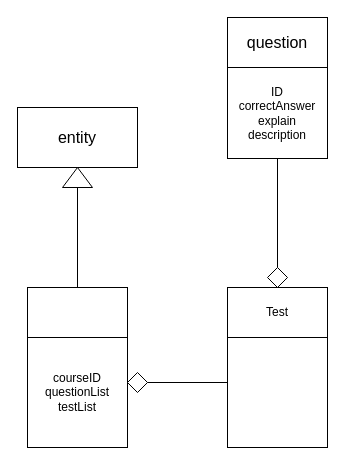
This 345x465 diagram has some shape labels left out. The shapes that lost their labels are listed below. From the top down, each one's centre as x and y in pixels, then its label:
At [77,312]: "course".
At [277,392]: "testID questionList startTime endTime".
